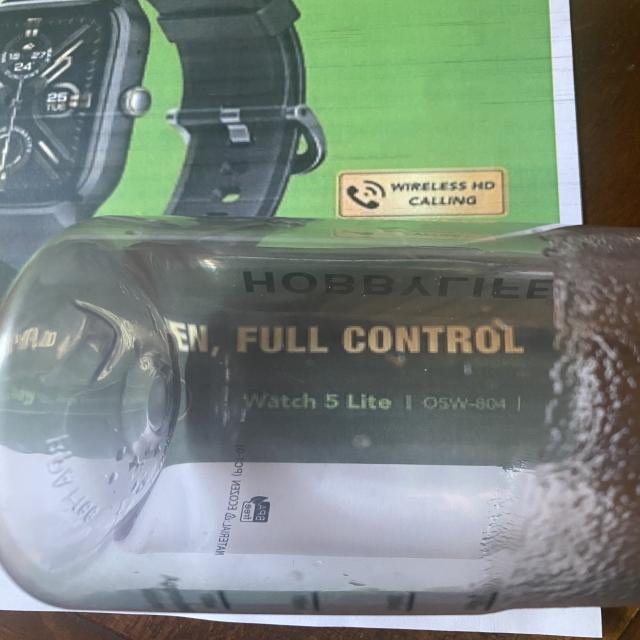Watch 5 Lite OSW-804: (228, 380, 533, 425)
